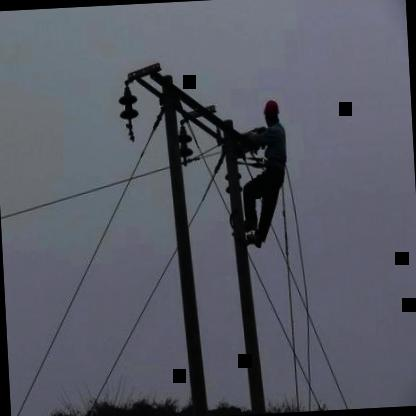helmet: (261, 97, 280, 129)
